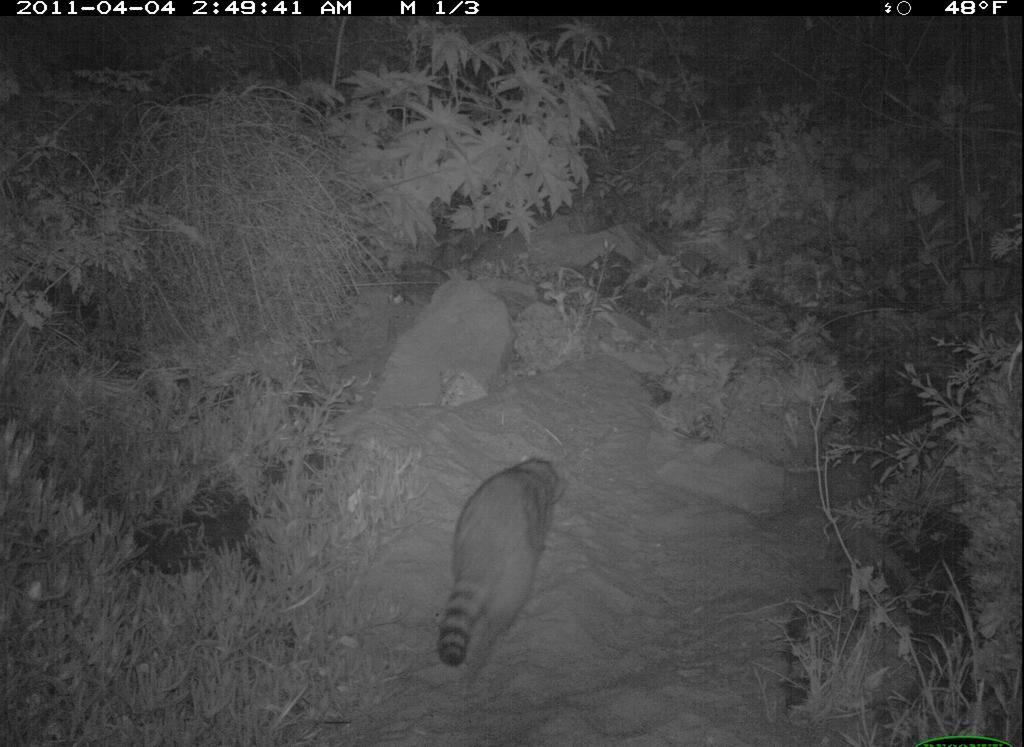raccoon: (424, 446, 568, 683)
